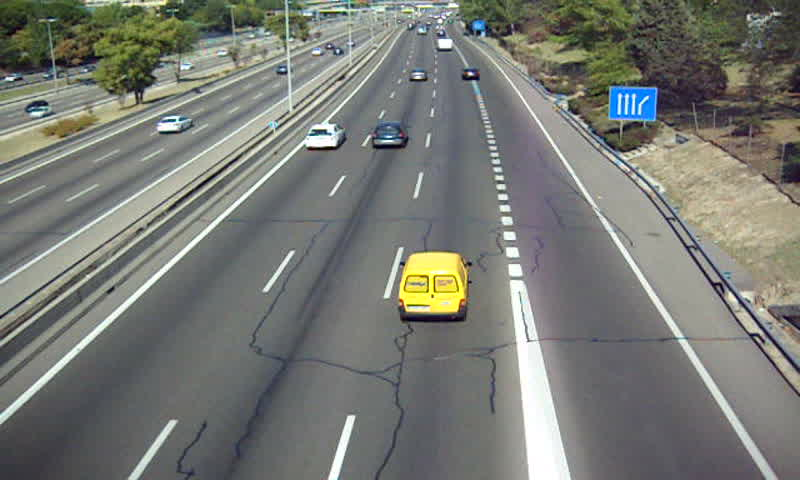car: (307, 123, 346, 149), (371, 123, 407, 149), (409, 68, 429, 84), (461, 67, 481, 81)
van: (398, 253, 470, 321)
